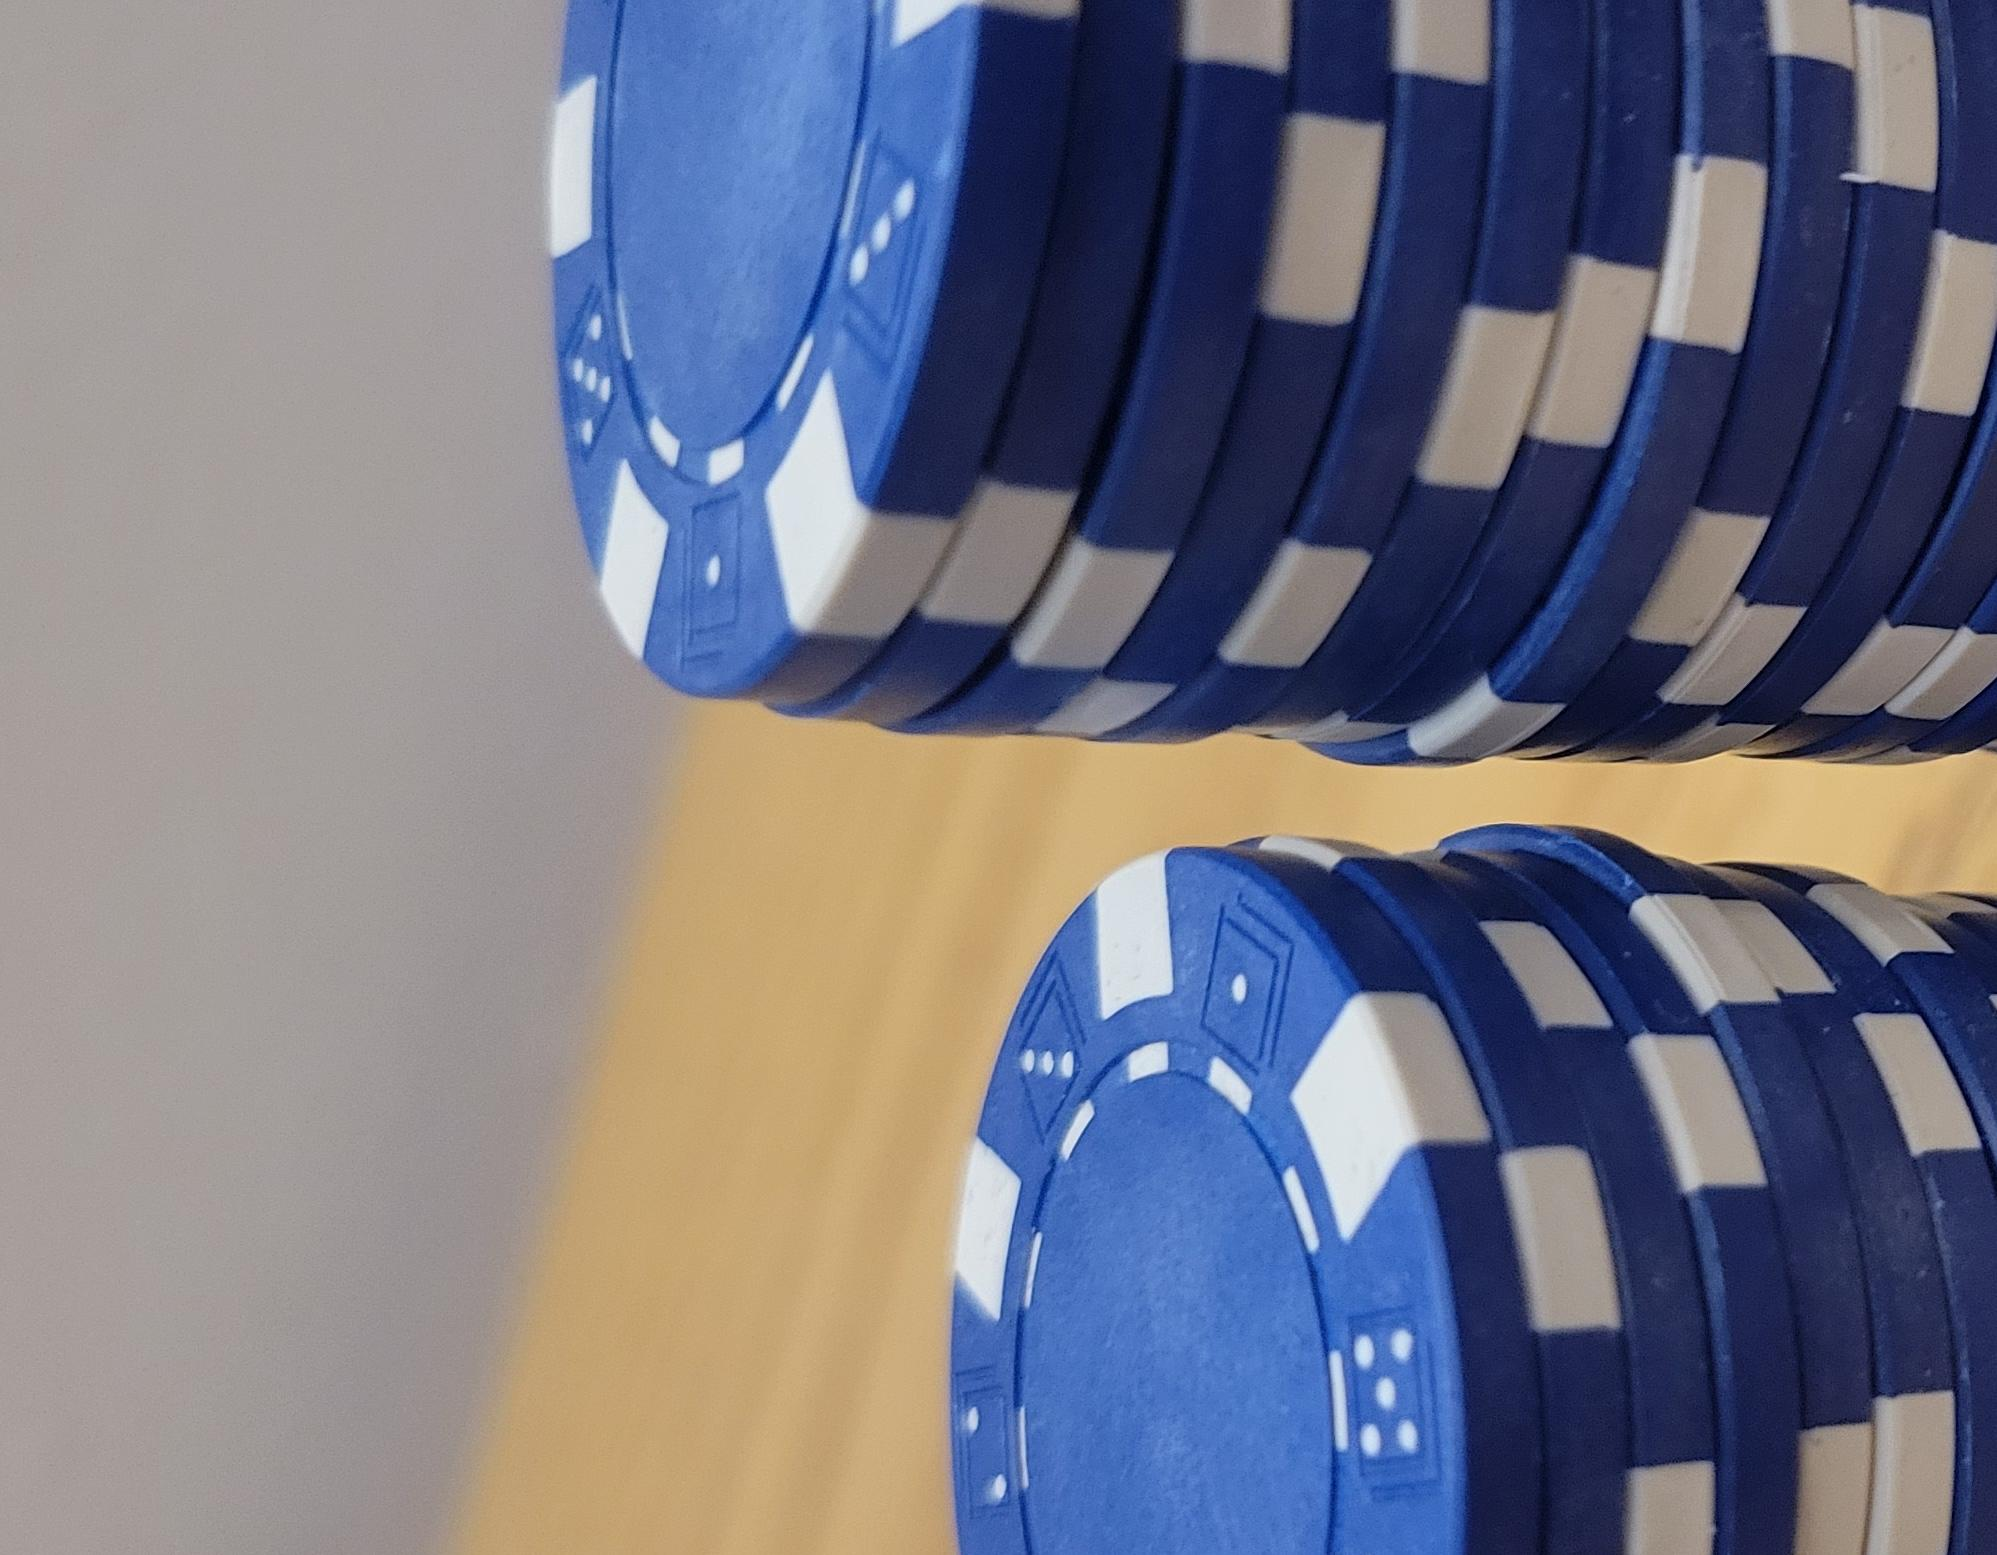Chip: (2, 255, 1460, 1555)
